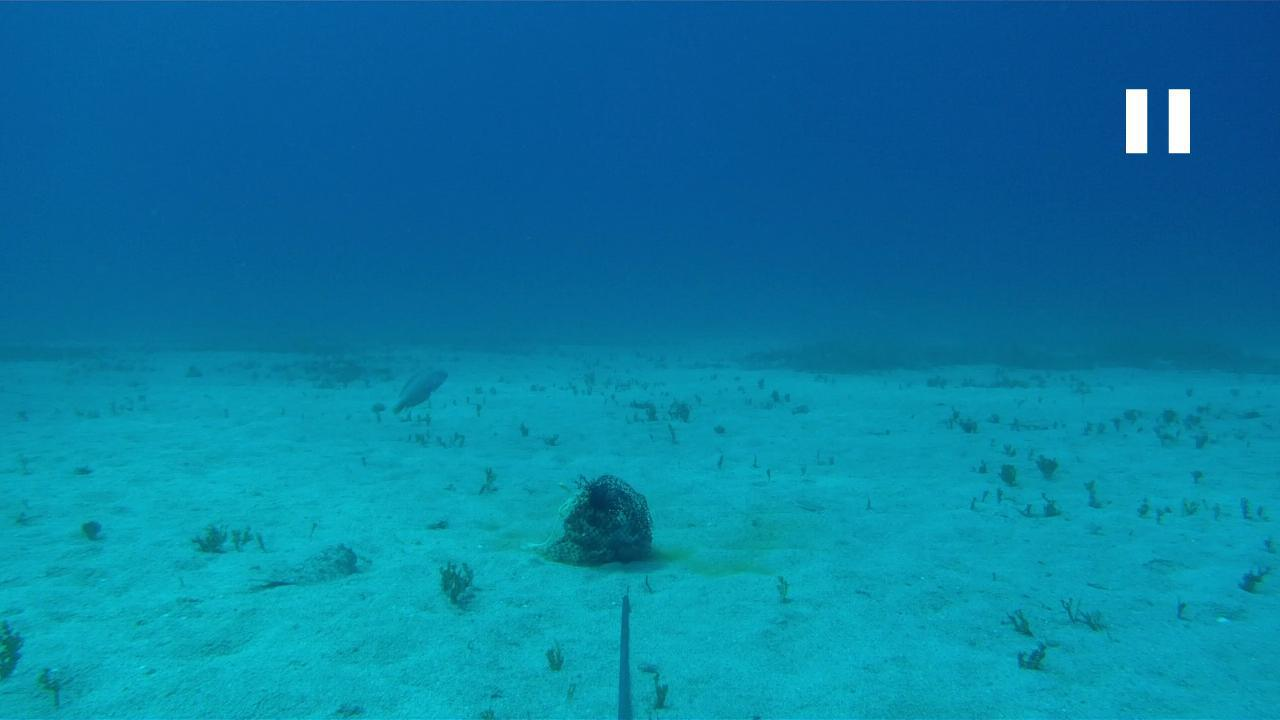bothus: (243, 539, 361, 585)
